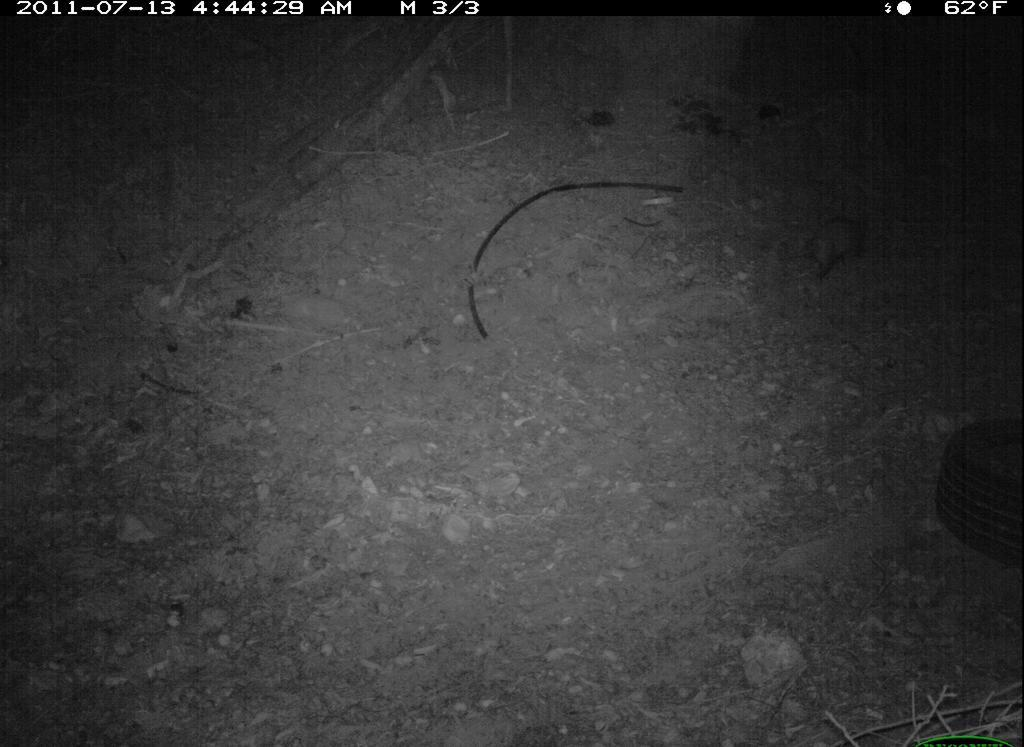opossum: (765, 214, 869, 288)
